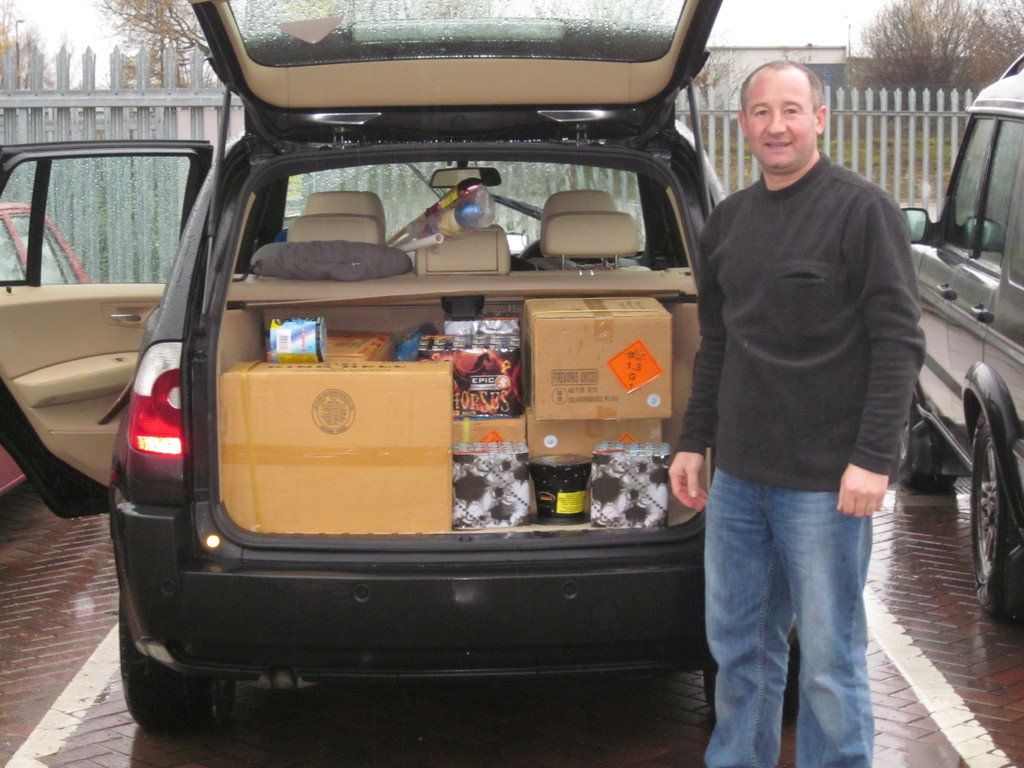Car: (0, 0, 727, 736), (899, 54, 1023, 636), (0, 197, 101, 499)
